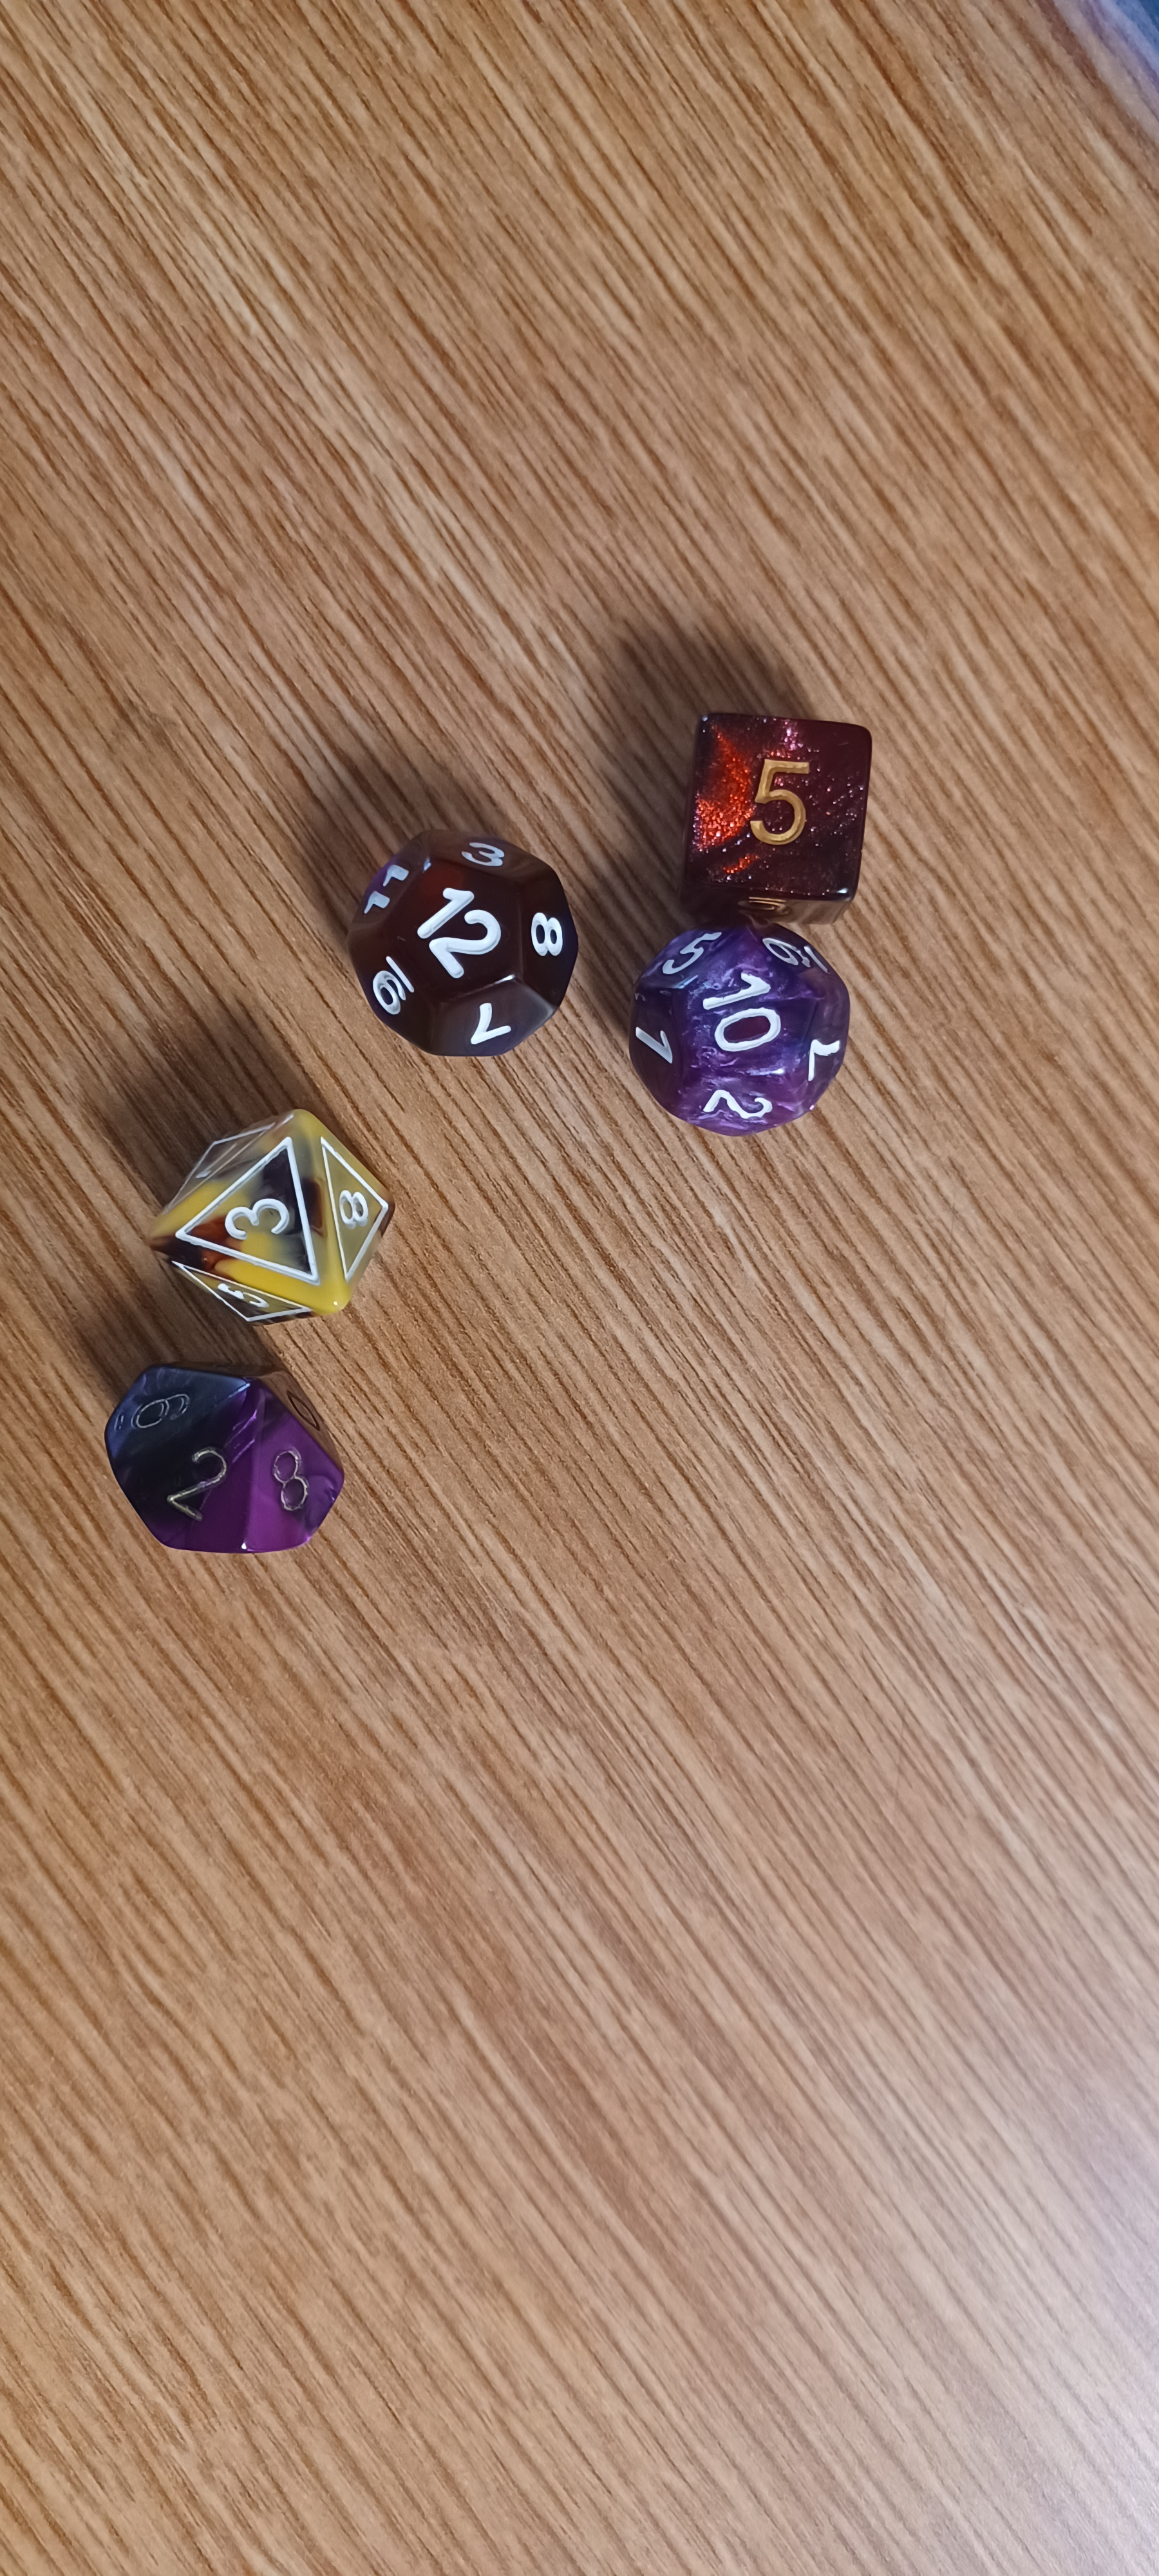five: (657, 677, 908, 943)
ten: (594, 904, 908, 1153)
three: (138, 1088, 435, 1336)
twelve: (325, 813, 614, 1094)
two: (85, 1337, 368, 1587)
